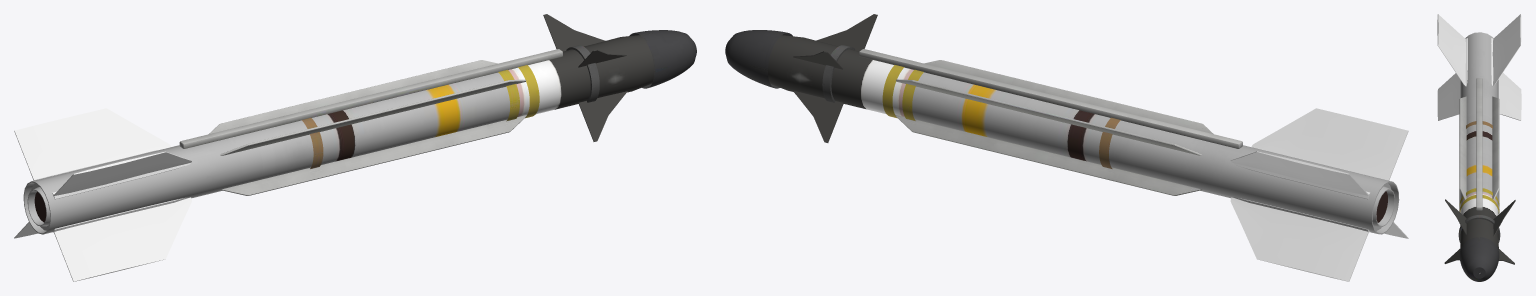
The model's file is srm_3.glb.
The picture shows the model from 3 angles, left to right: view 1: azimuth 30°, elevation 25°; view 2: azimuth 150°, elevation 25°; view 3: azimuth 270°, elevation 25°; orthographic projection. The views are drawn at different scales.
Parts seen in each view (by area): view 1: srm_3; view 2: srm_3; view 3: srm_3.
Boxes of the visible parts, bbox=[...] form: srm_3: bbox=[14, 14, 696, 281]; srm_3: bbox=[725, 14, 1408, 281]; srm_3: bbox=[1437, 14, 1521, 281].
Bounding box in the file's own units: 1 × 0.1593 × 0.1593.
6 materials, 6 textured.
